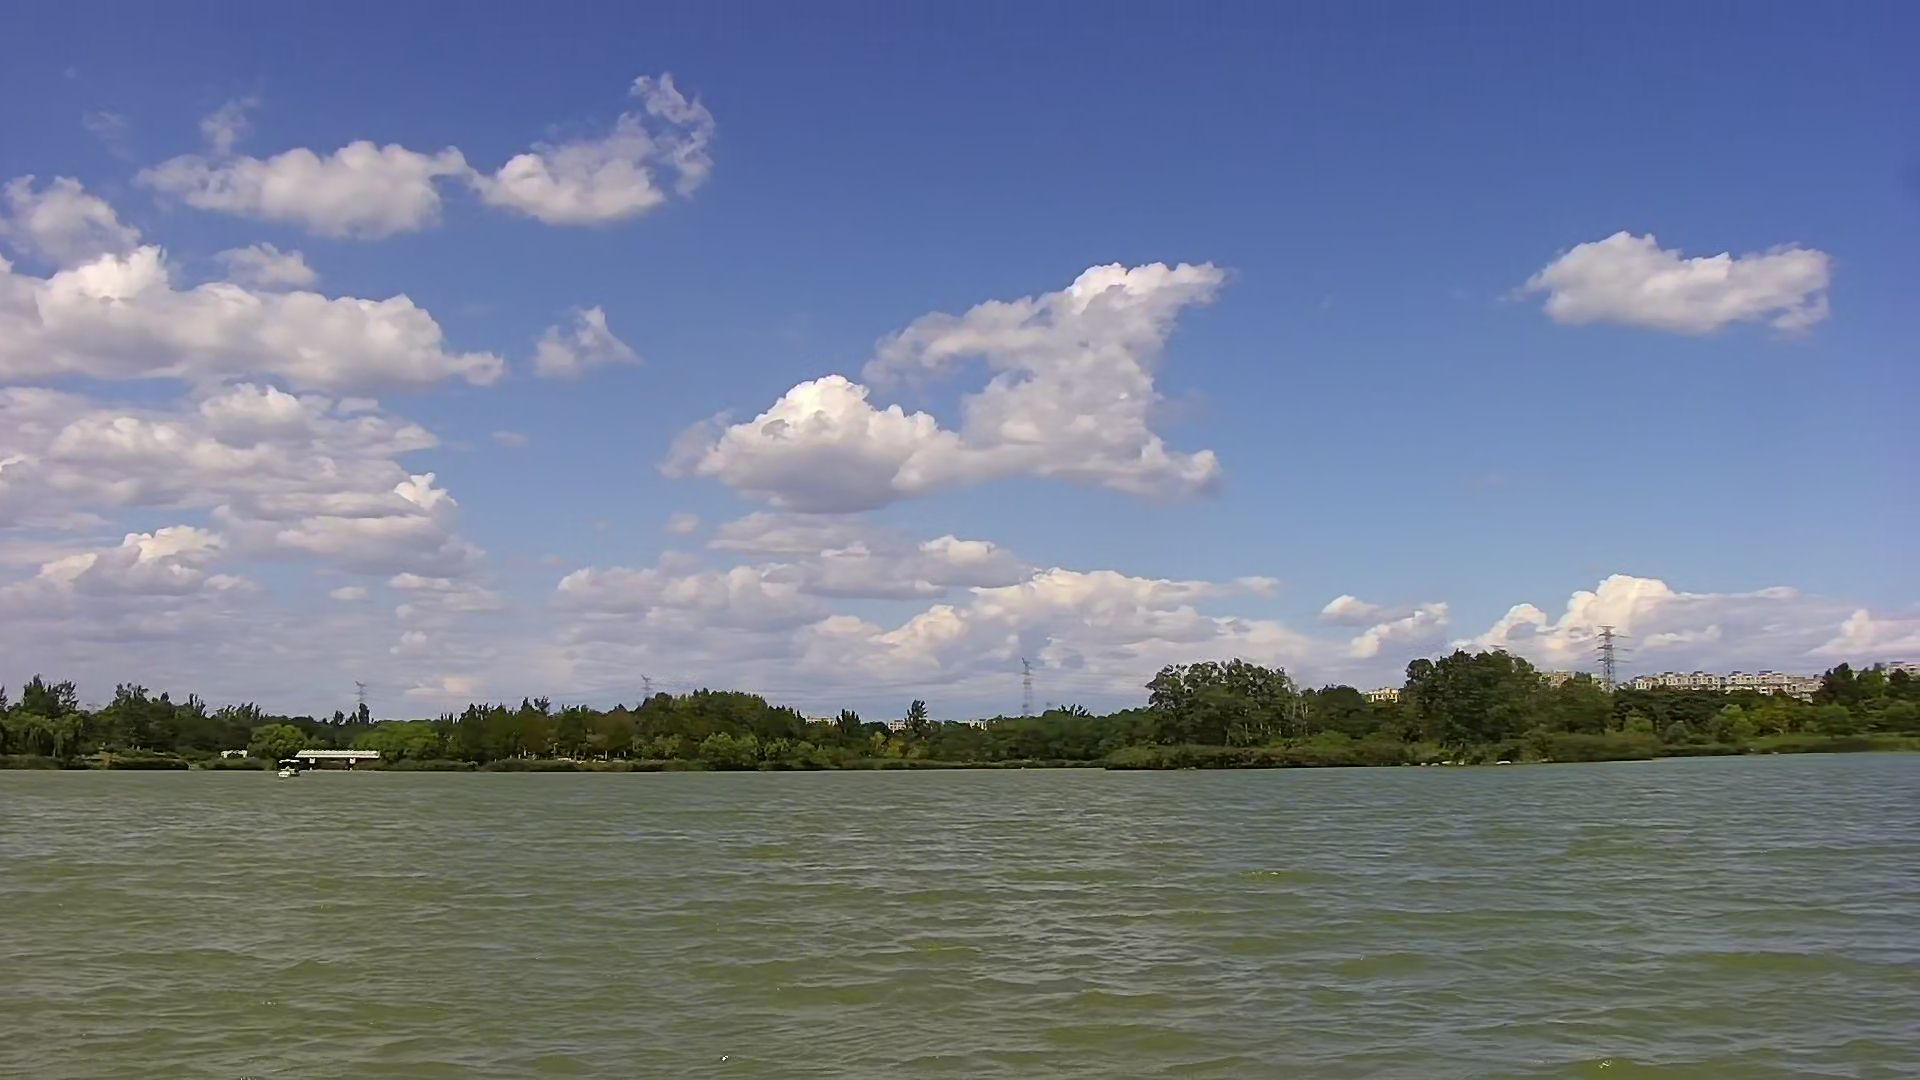bridge: (293, 744, 385, 775)
